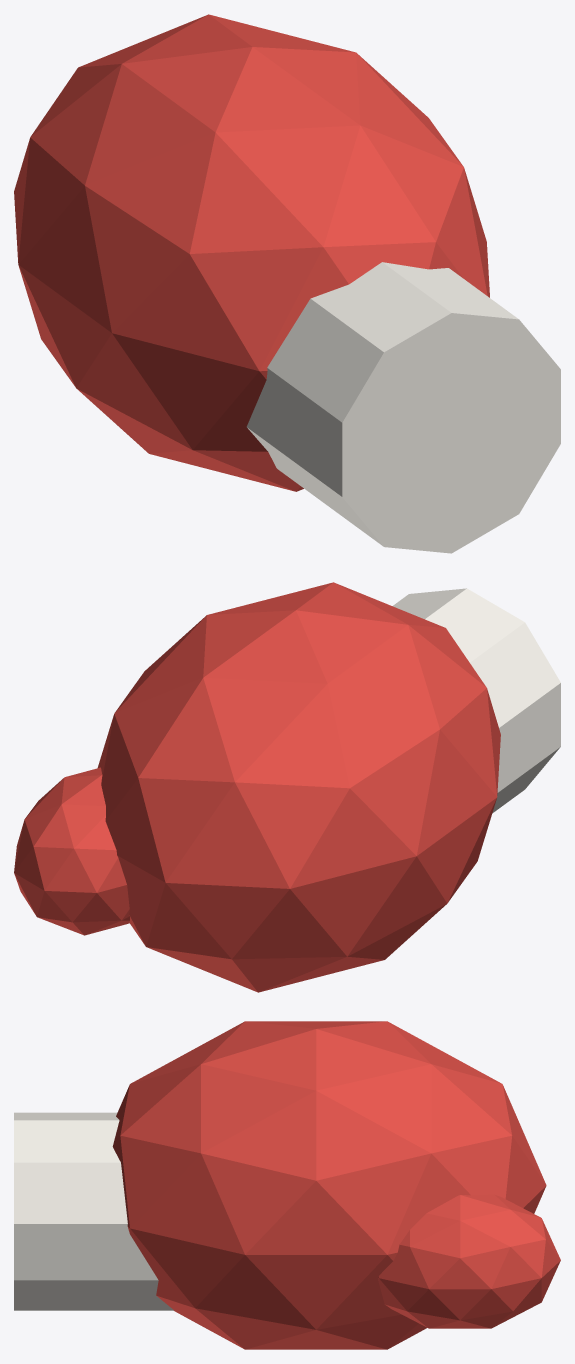
Rendered from Boxing_Glove.fbx.
3 renders of one model, top to bottom at view 1: azimuth 30°, elevation 25°; view 2: azimuth 150°, elevation 25°; view 3: azimuth 270°, elevation 25°, orthographic. The views are drawn at different scales.
Visible parts, largest first — view 1: Glove; view 2: Glove; view 3: Glove.
Boxes of the visible parts, <box> form: Glove: <box>14,14,560,553</box>; Glove: <box>14,582,560,992</box>; Glove: <box>14,1021,560,1349</box>.
Bounding box in the file's own units: 0.2417 × 0.24 × 0.38.
